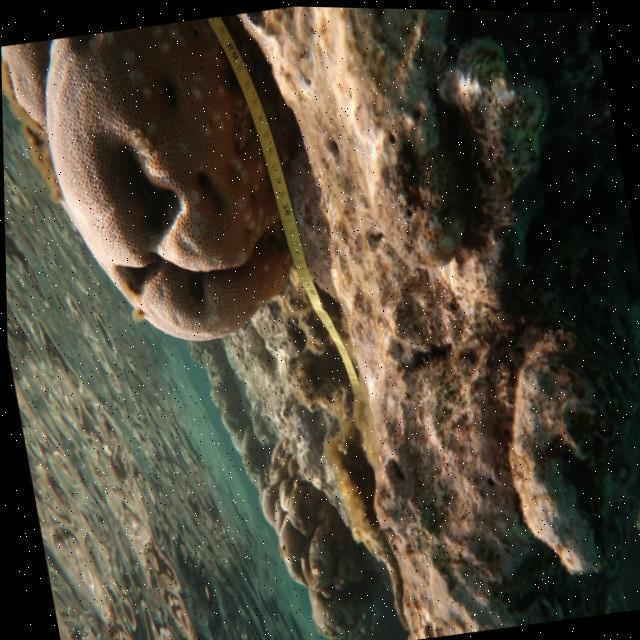Healthy Coral: (30, 7, 325, 363), (1, 41, 54, 128)
